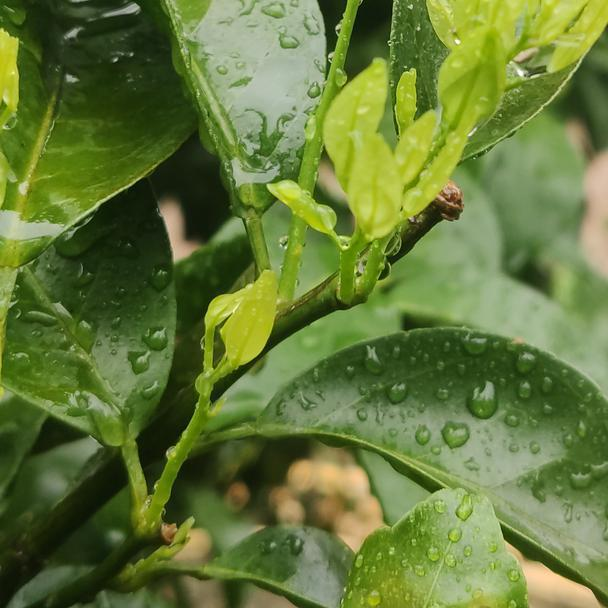shoot: (307, 72, 453, 263), (434, 2, 608, 134), (200, 278, 277, 380)
